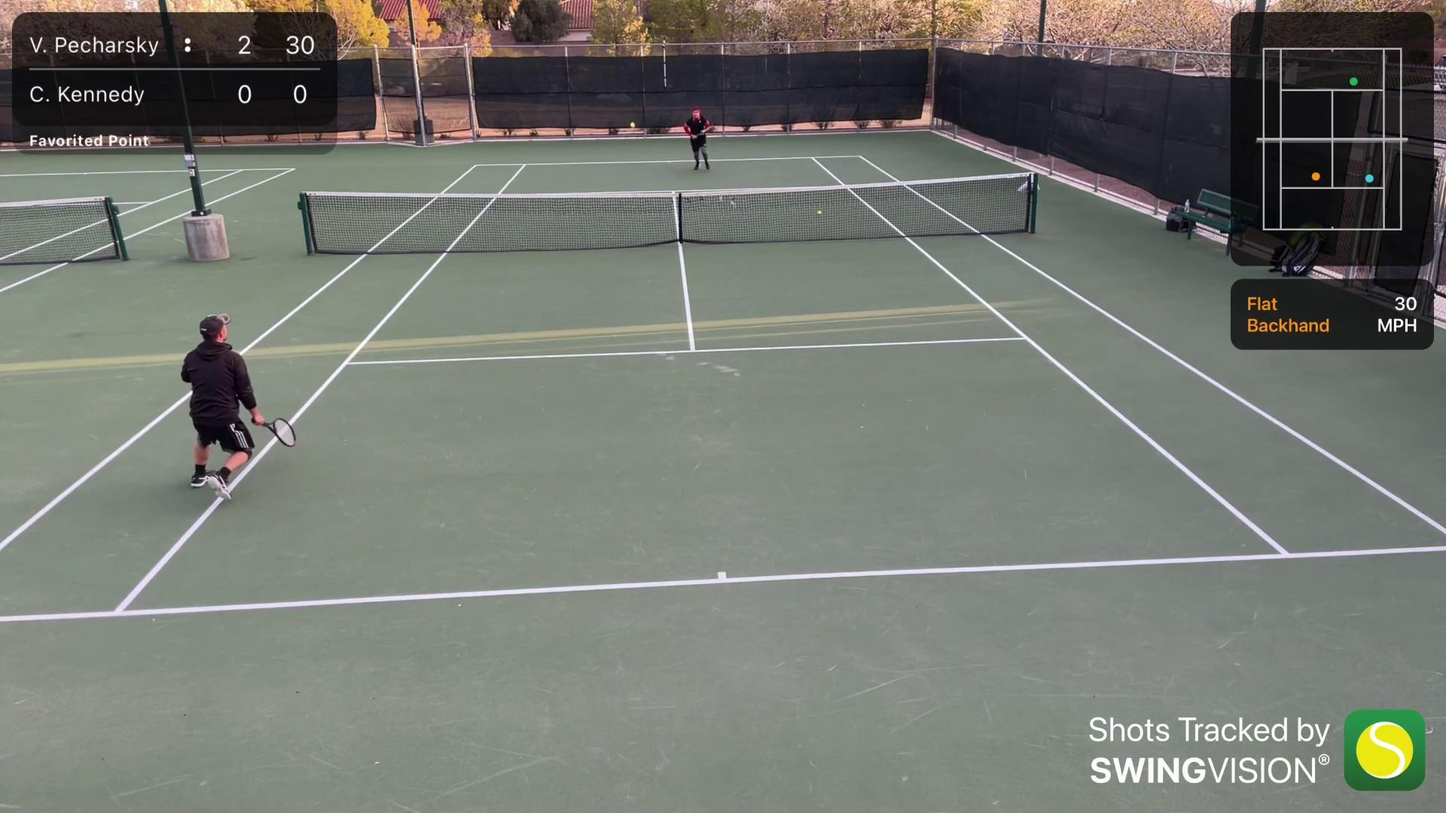ball: (630, 122, 637, 130), (816, 209, 822, 216)
